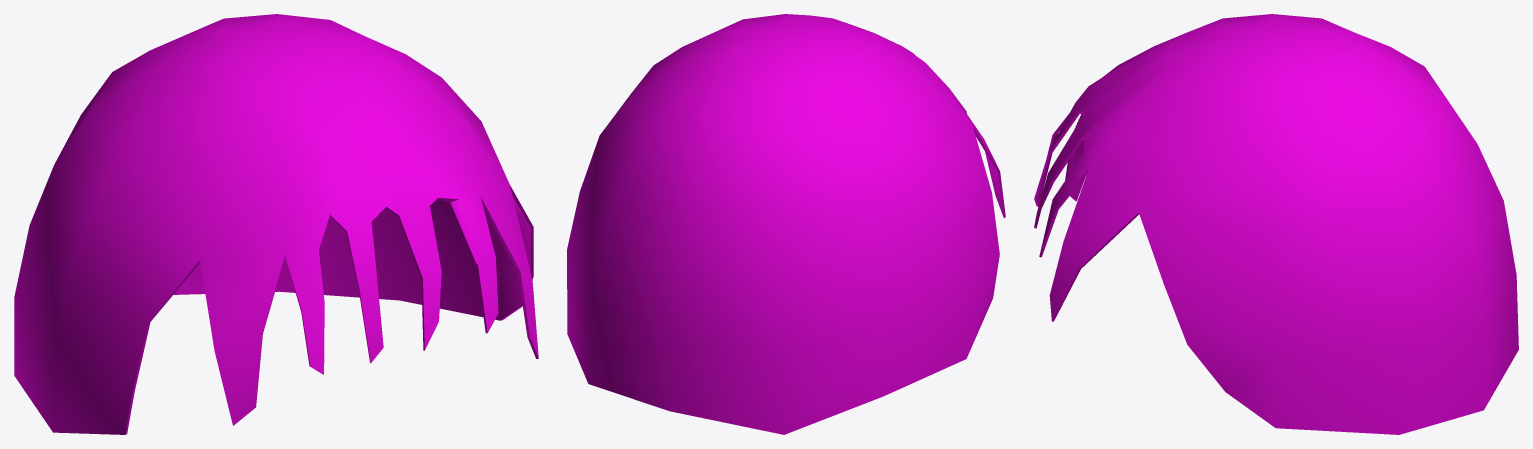
Rendered from short cut 1.fbx.
3 renders of one model, left to right at view 1: azimuth 30°, elevation 25°; view 2: azimuth 150°, elevation 25°; view 3: azimuth 270°, elevation 25°, orthographic. The views are drawn at different scales.
Visible parts, largest first — view 1: pCylinder1; view 2: pCylinder1; view 3: pCylinder1.
Boxes of the visible parts, left/top/right/bottom form: pCylinder1: left=14, top=14, right=538, bottom=434; pCylinder1: left=567, top=14, right=1005, bottom=434; pCylinder1: left=1034, top=14, right=1518, bottom=434.
Bounding box in the file's own units: 626 × 487 × 656.
